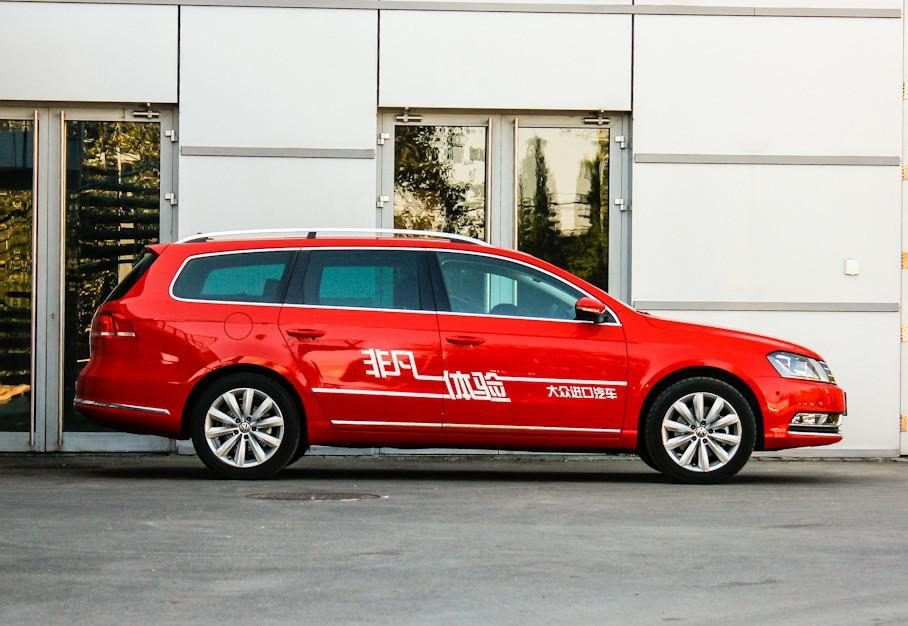Wagon: (70, 226, 849, 485)
